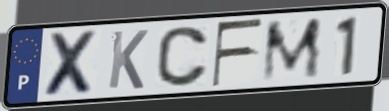1: (333, 14, 363, 77)
C: (154, 24, 211, 89)
F: (210, 16, 266, 90)
K: (105, 28, 150, 91)
M: (259, 15, 324, 85)
X: (42, 28, 101, 99)
